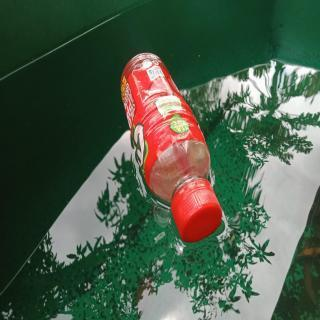bottle: (119, 48, 223, 244)
